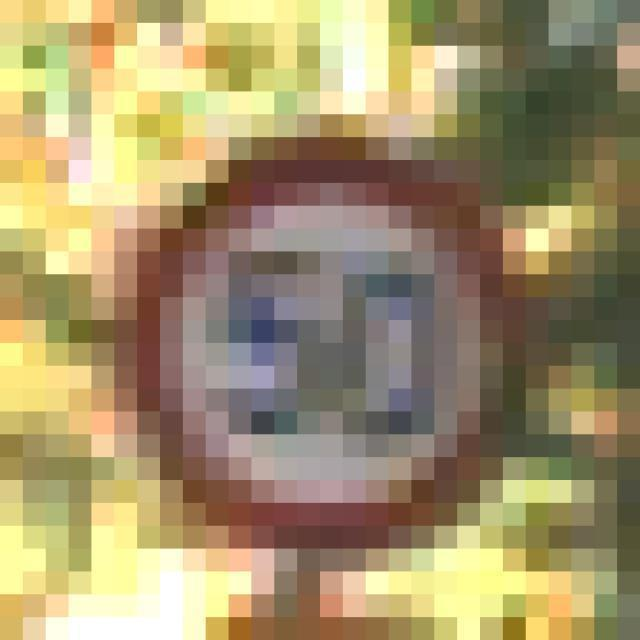Ograniczenie predkosci do 50: (138, 150, 515, 545)
